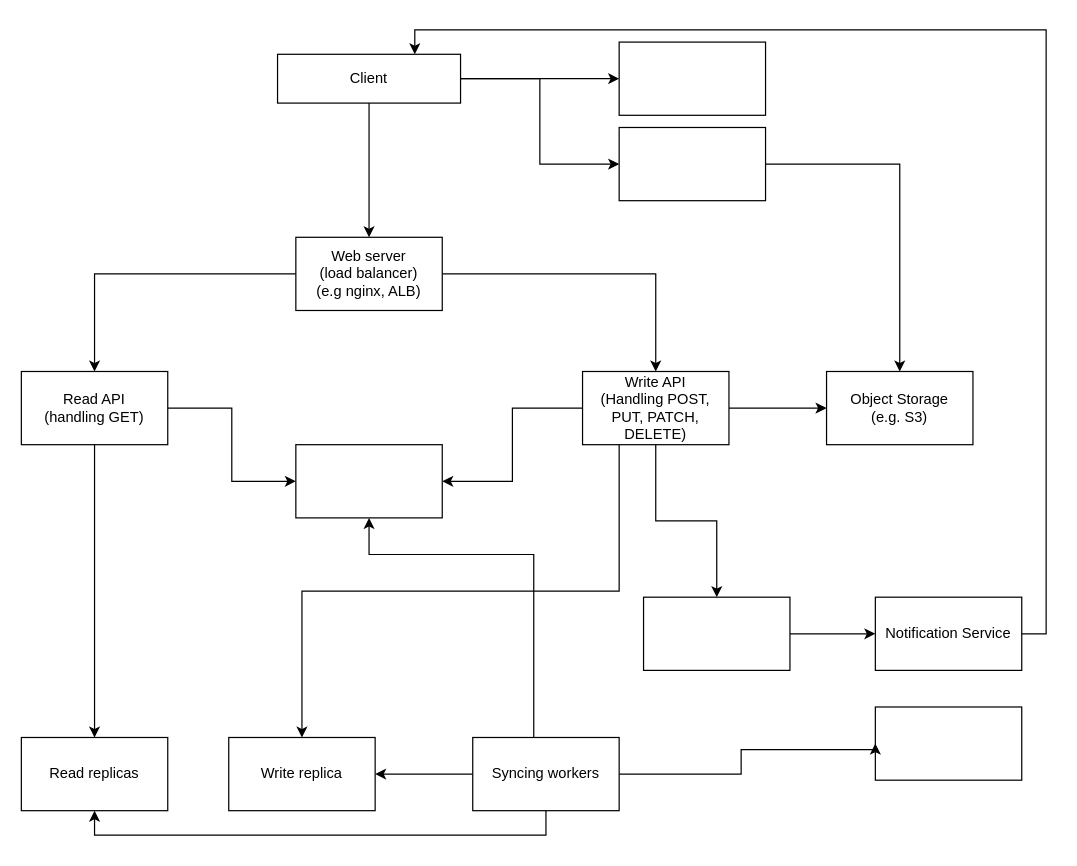
The diagram is 1077 pixels wide and 866 high, and some of its shapes have lost their labels. The centre of each missing label's shape, as x and y in pixels:
"Analytics and Reporting" goes at point 948,743.
"Cache Service (e.g. Redis)" goes at point 368,480.
"CDN" goes at point 692,163.
"DNS" goes at point 692,78.
"Workers" goes at point 716,633.
